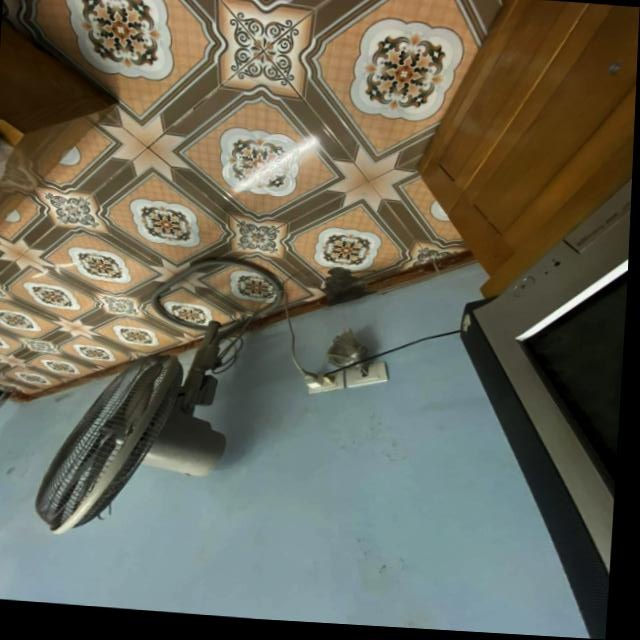outlet: (346, 357, 391, 390), (305, 364, 346, 396)
